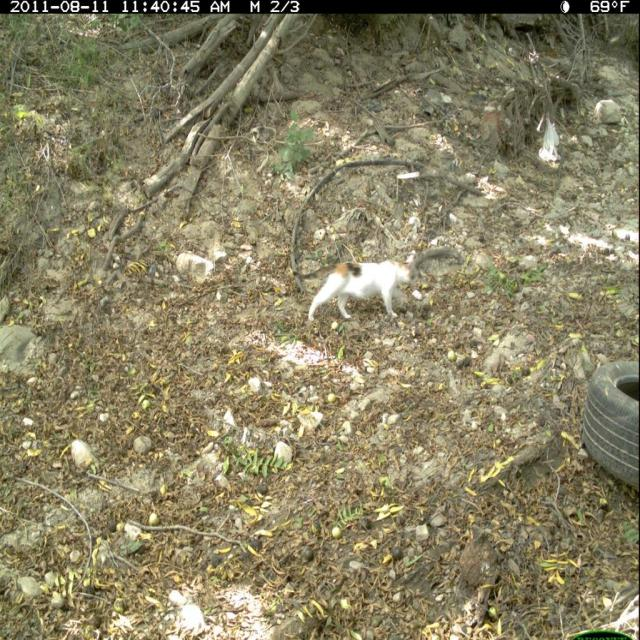cat: (293, 256, 417, 325)
